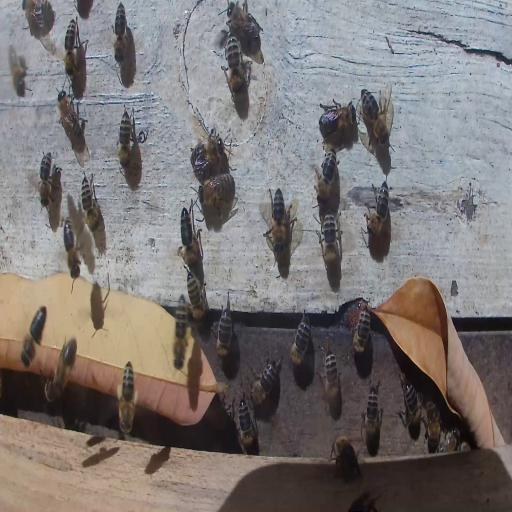bee: (358, 86, 394, 146), (45, 336, 76, 404), (113, 357, 138, 436), (249, 348, 283, 406), (265, 185, 289, 260), (20, 304, 48, 368), (342, 299, 372, 355), (225, 2, 259, 46), (318, 208, 340, 276), (365, 182, 391, 238), (318, 98, 354, 138), (57, 86, 84, 139), (398, 377, 422, 433), (224, 38, 248, 94), (201, 174, 235, 213), (332, 435, 361, 480), (81, 172, 102, 233), (314, 150, 338, 202), (323, 346, 340, 419), (362, 382, 382, 444), (236, 394, 256, 454), (290, 313, 311, 368), (185, 271, 208, 320), (181, 204, 198, 270), (174, 303, 190, 371), (215, 298, 233, 357), (191, 134, 222, 168), (64, 219, 80, 278), (9, 45, 27, 96), (118, 106, 132, 170), (425, 400, 441, 452), (64, 18, 78, 77), (39, 149, 52, 208), (113, 2, 126, 61), (441, 427, 467, 453), (22, 0, 52, 21), (350, 490, 376, 512)
